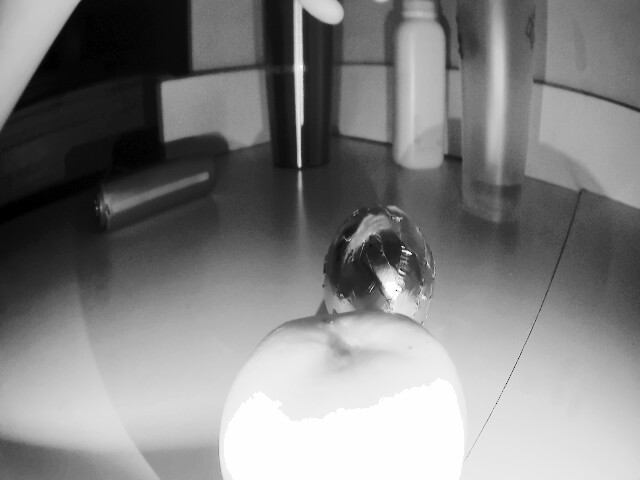black: (323, 205, 468, 355)
